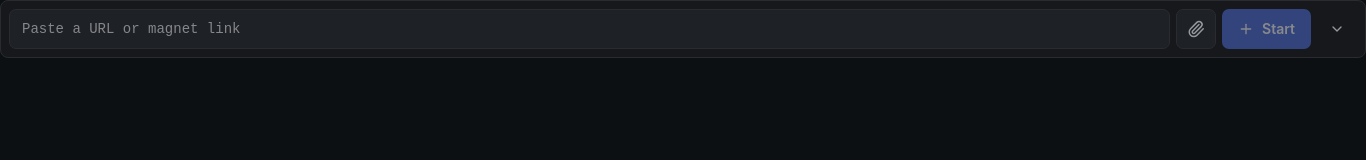
DownloadForm Refactored Suite › 11. Failed single URL creation preserves source
In the field with placeholder "Paste a URL or magnet link": (590, 29) x1=9 y1=9 x2=1170 y2=49, type "https://example.com/file.zip"
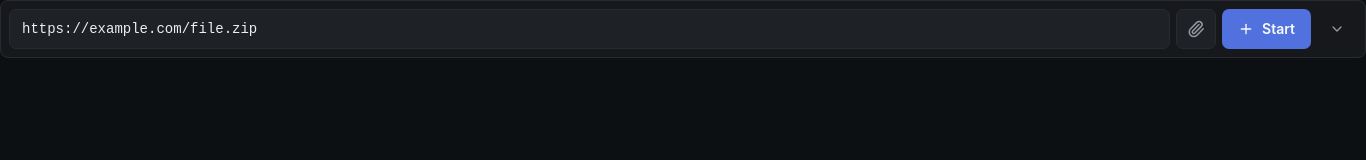
Click the button "Start": (1267, 29) x1=1222 y1=9 x2=1311 y2=49
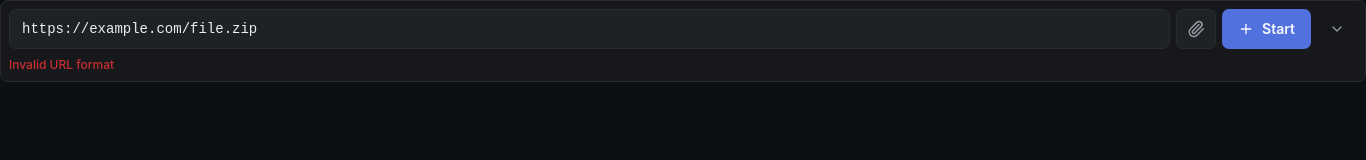
Result: the text "Invalid URL format" is shown at x1=9 y1=57 x2=114 y2=72
